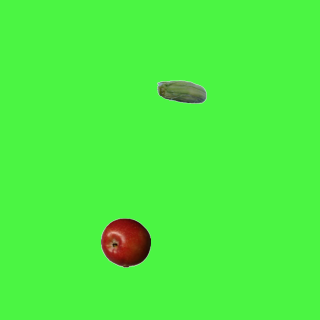Apple Braeburn: (100, 217, 150, 267)
Corn Husk: (156, 68, 206, 118)
